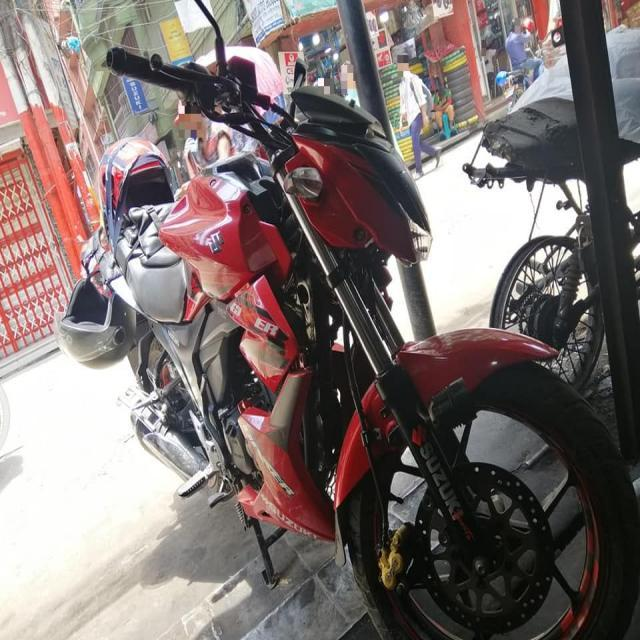Motorbike: (31, 33, 640, 637)
